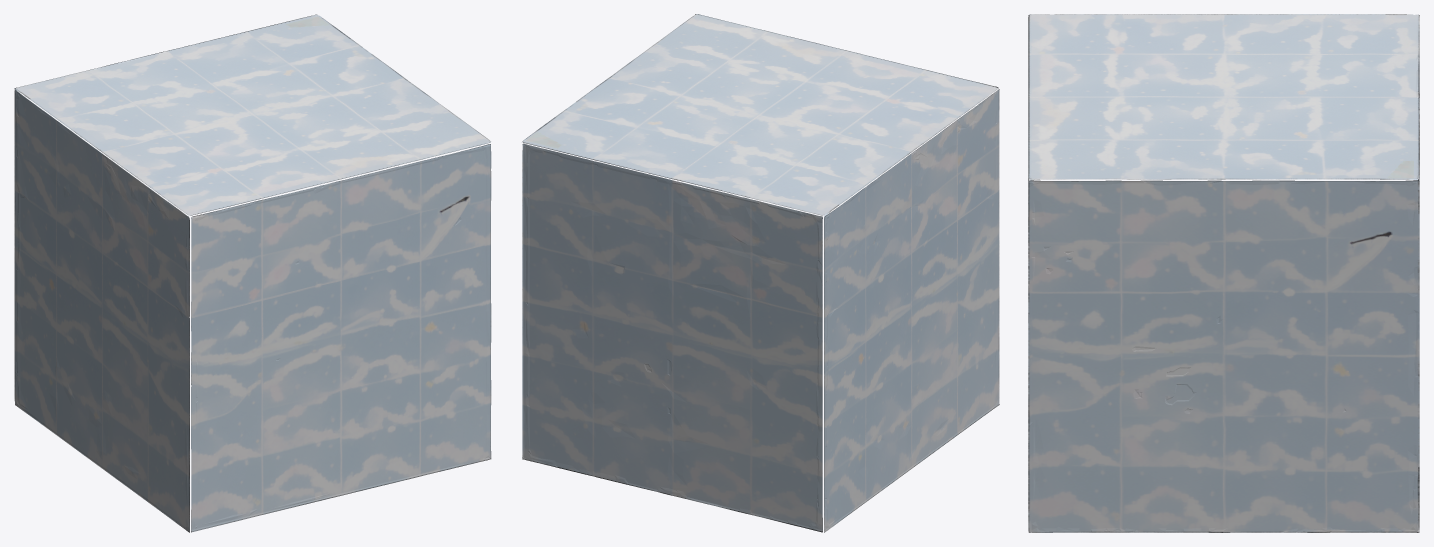
The model's file is vfx_stage_transition.glb.
The picture shows the model from 3 angles, left to right: view 1: azimuth 30°, elevation 25°; view 2: azimuth 150°, elevation 25°; view 3: azimuth 270°, elevation 25°; orthographic projection. The views are drawn at different scales.
Visible parts, largest first — view 1: world; view 2: world; view 3: world.
Part boxes in pixels (left/top/right/bottom): world: left=14, top=14, right=491, bottom=532; world: left=522, top=14, right=999, bottom=532; world: left=1028, top=14, right=1419, bottom=532.
Bounding box in the file's own units: 1 × 1 × 1.
Materials: 1 (1 with a texture image).
